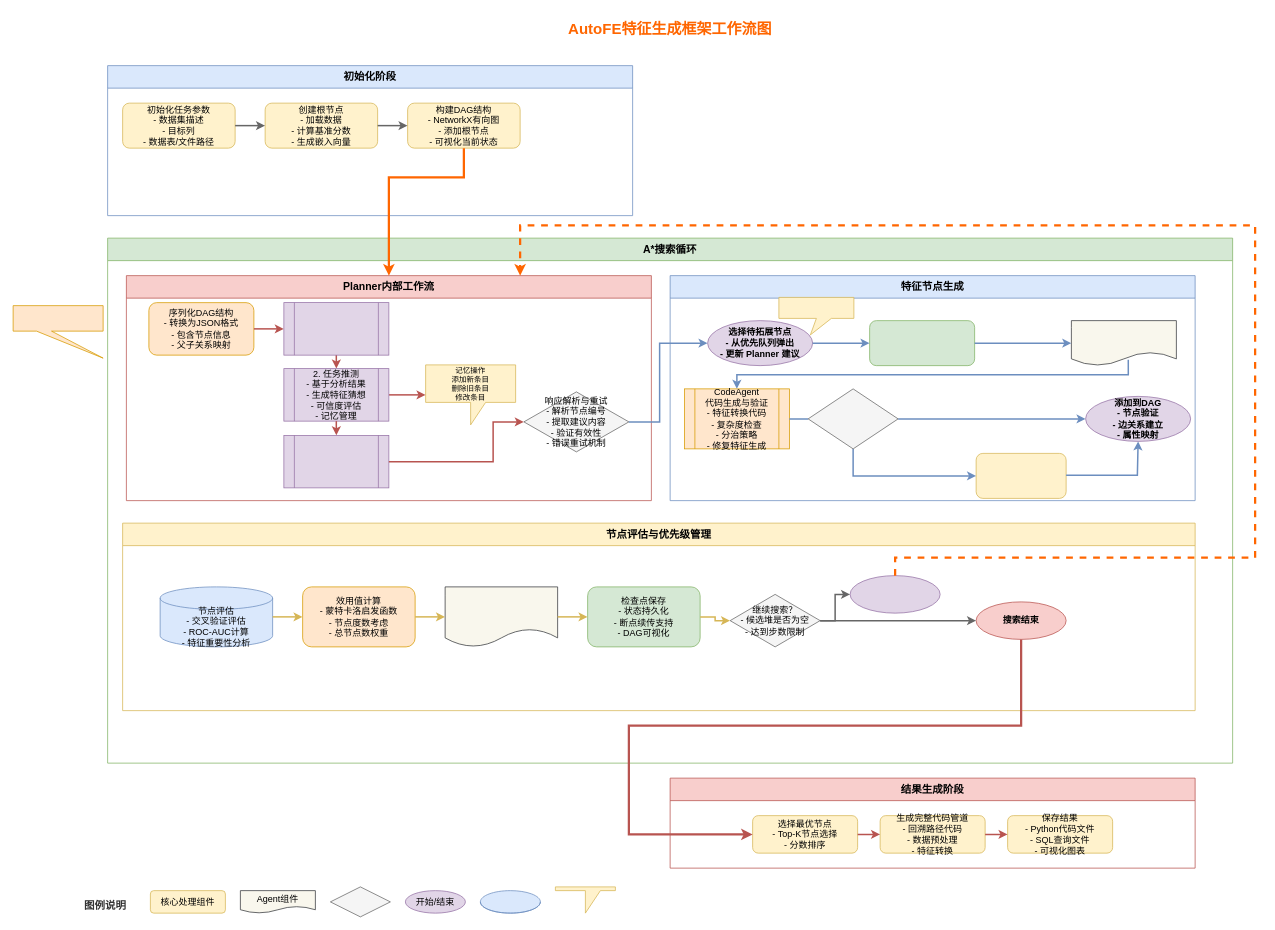
The diagram is 1275 pixels wide and 930 high, and some of its shapes have lost their labels. The shapes that lost their labels are listed below. From the top down, each one's centre as x and y in pixels, then its label:
At (x=57, y=331): "Planner核心: ReAct框架 分析→推测→计划".
At (x=336, y=328): "1. 状态分析 - 任务描述 - 基础特征信息 - 特征生成树 - 目标列分析".
At (x=816, y=316): "RAG: 基于嵌入向量的 相似节点检索".
At (x=922, y=343): "RAG相似度搜索 - 查找相似节点 - 构建示例提示".
At (x=1123, y=343): "NLAgent 自然语言描述生成 - 任务到特征描述 - 多样化生成策略".
At (x=852, y=418): "需要分治处理？ - 代码复杂度检查 - 高阶特征生成".
At (x=336, y=461): "3. 计划生成 - 结合特征生成树 - 整合推测结果 - 避免重复选择 - 选择待拓展节点".
At (x=1020, y=475): "DivideAgent 分治策略 - 代码分割 - 子任务规划".
At (x=894, y=594): "循环回A*搜索".
At (x=501, y=616): "优先队列管理 - 最小堆结构 - 动态排序 - Beam搜索限制".
At (x=360, y=901): "决策节点".
At (x=510, y=901): "数据存储".
At (x=585, y=899): "注释说明".
